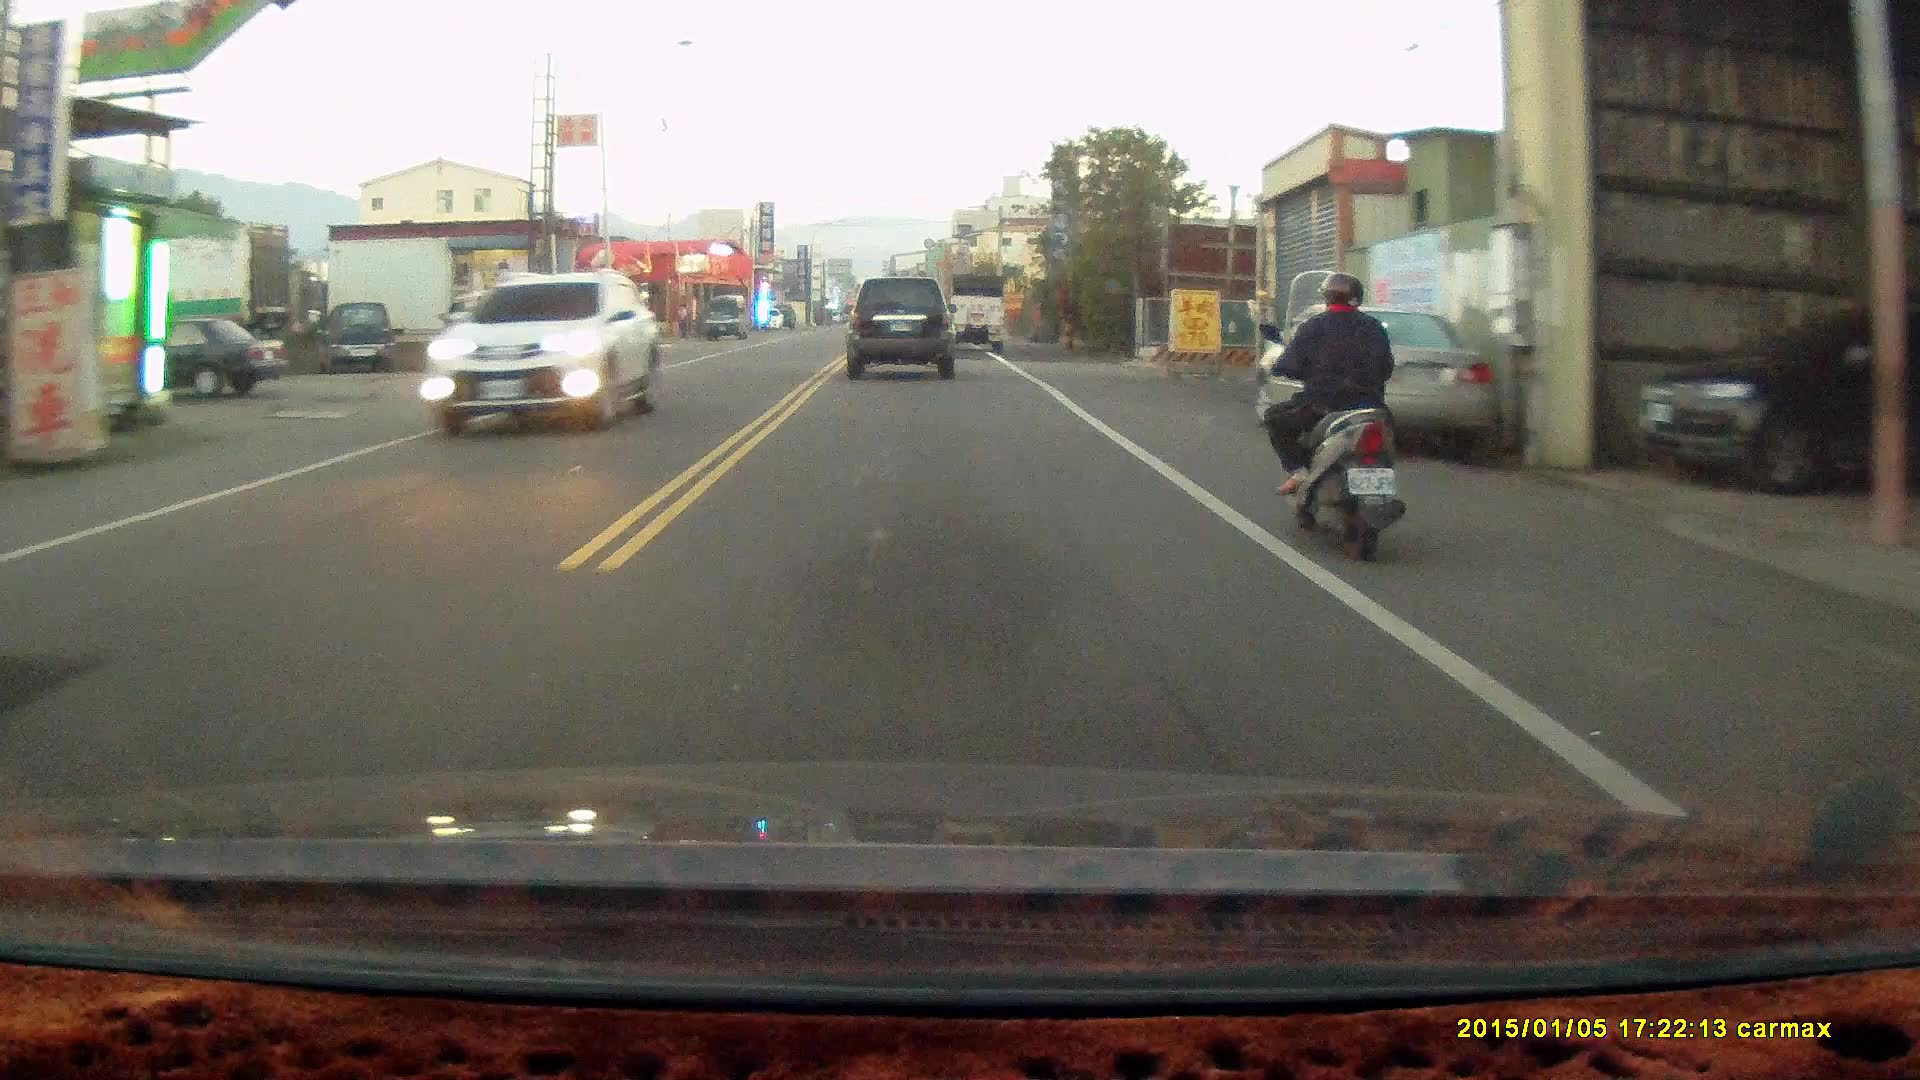rider: (1261, 264, 1407, 558)
vehicle: (1635, 293, 1917, 492), (414, 265, 664, 429), (1247, 306, 1500, 457), (105, 314, 289, 398), (847, 271, 960, 380), (945, 271, 1009, 354), (322, 299, 396, 369)
